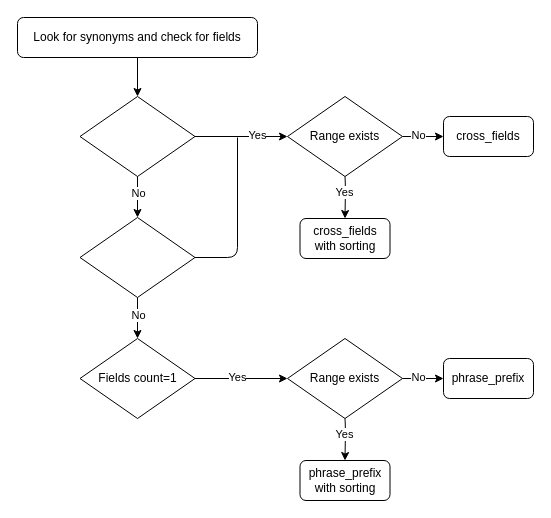
Some shapes in this 551 by 518 pixel diagram are drawn without their labels. Each missing label, with the centre of its shape:
Fields count=0: (137,257)
Fields count>1: (137,136)
